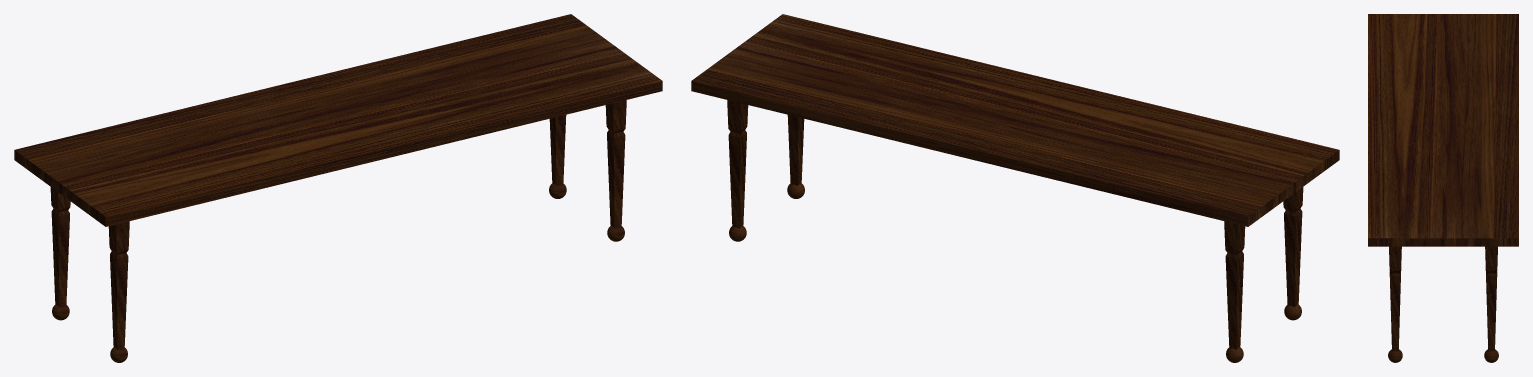
The model's file is bigTable.fbx.
The picture shows the model from 3 angles, left to right: view 1: azimuth 30°, elevation 25°; view 2: azimuth 150°, elevation 25°; view 3: azimuth 270°, elevation 25°; orthographic projection. The views are drawn at different scales.
Parts seen in each view (by area): view 1: Cube.016; view 2: Cube.016; view 3: Cube.016.
Boxes of the visible parts, x1,y1,x2,y2 form: Cube.016: [14, 14, 662, 362]; Cube.016: [691, 14, 1339, 362]; Cube.016: [1368, 14, 1518, 362].
Bounding box in the file's own units: 10.59 × 3 × 3.01.
